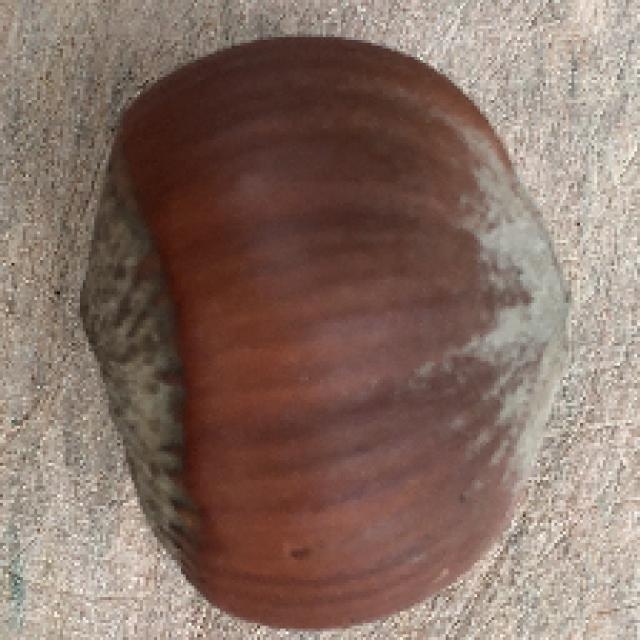DamagedHazelnut: (79, 36, 573, 637)
